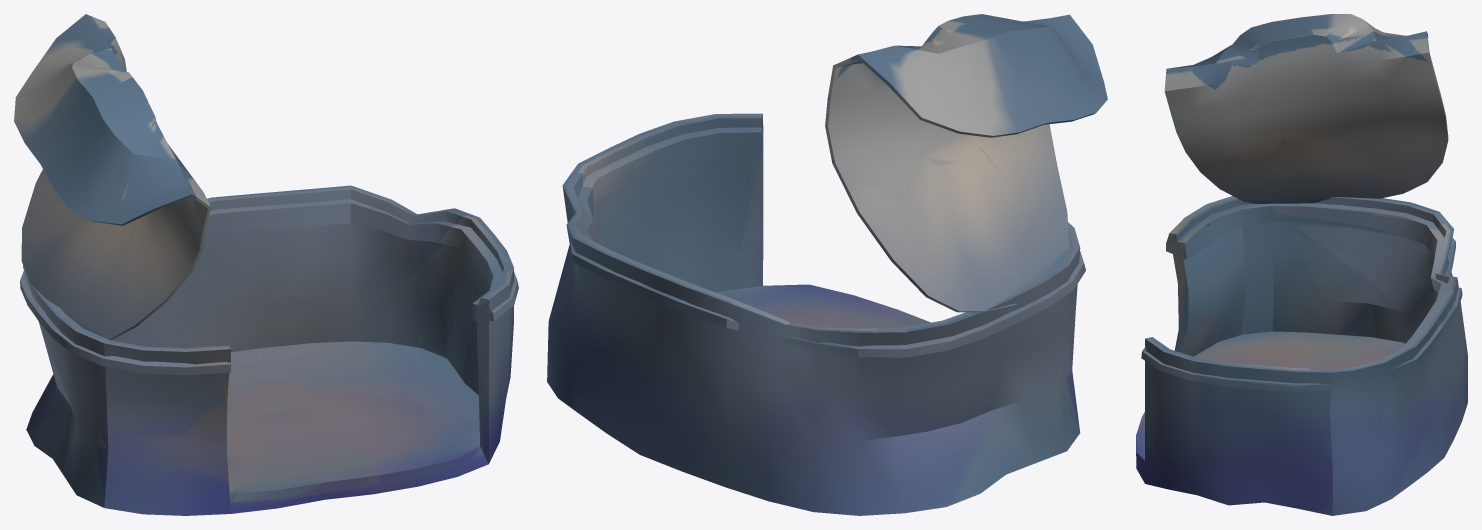
Rendered from jar1.fbx.
3 renders of one model, left to right at view 1: azimuth 30°, elevation 25°; view 2: azimuth 150°, elevation 25°; view 3: azimuth 270°, elevation 25°, orthographic. The views are drawn at different scales.
Parts seen in each view (by area): view 1: jar1; view 2: jar1; view 3: jar1.
Part boxes in pixels (x1,y1,x2,y2): jar1: (14, 14, 518, 515); jar1: (547, 14, 1107, 515); jar1: (1136, 14, 1467, 515).
Size of the model in its own units: 151 by 129 by 112.
